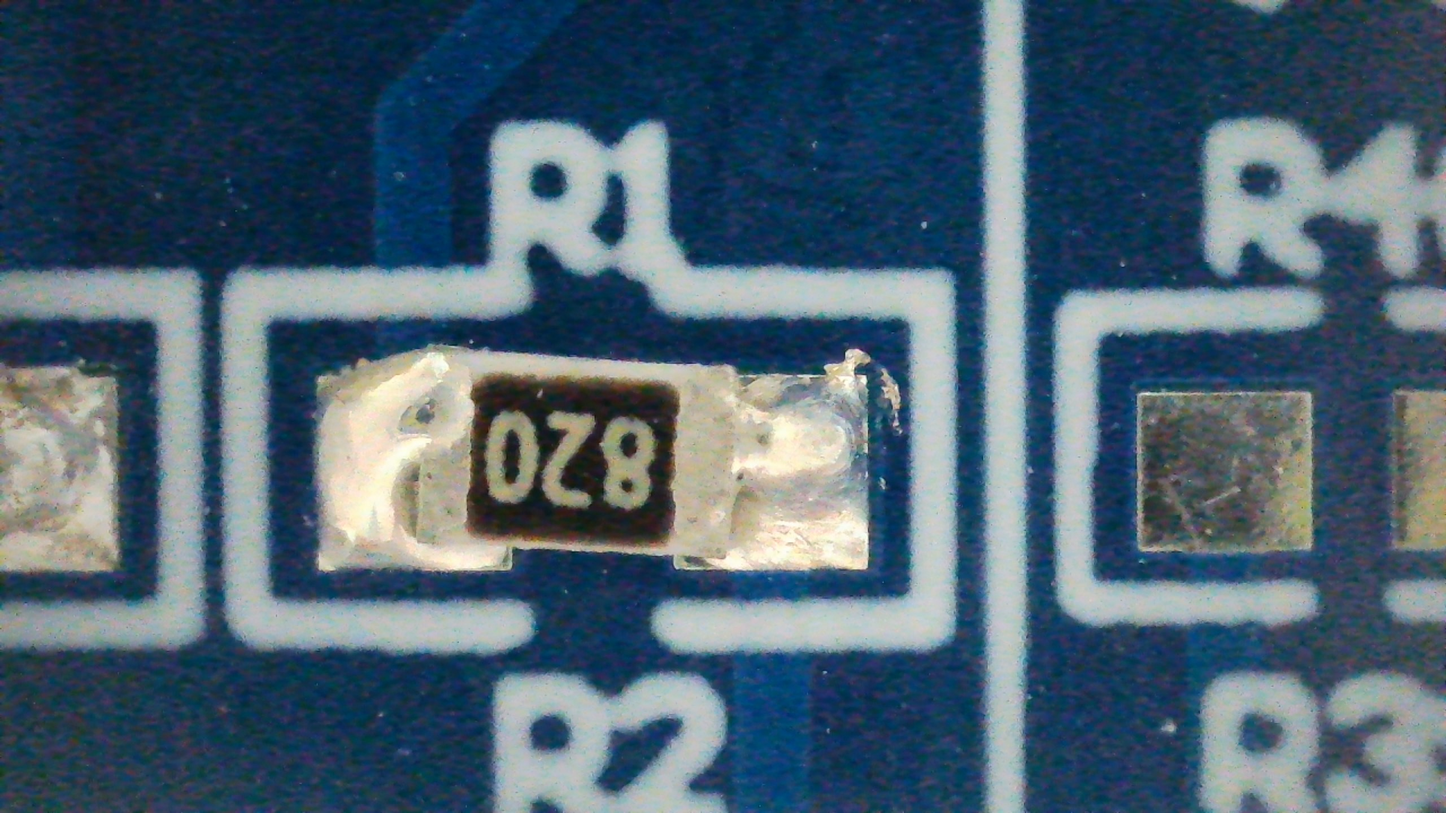NG: (317, 345, 871, 571)
